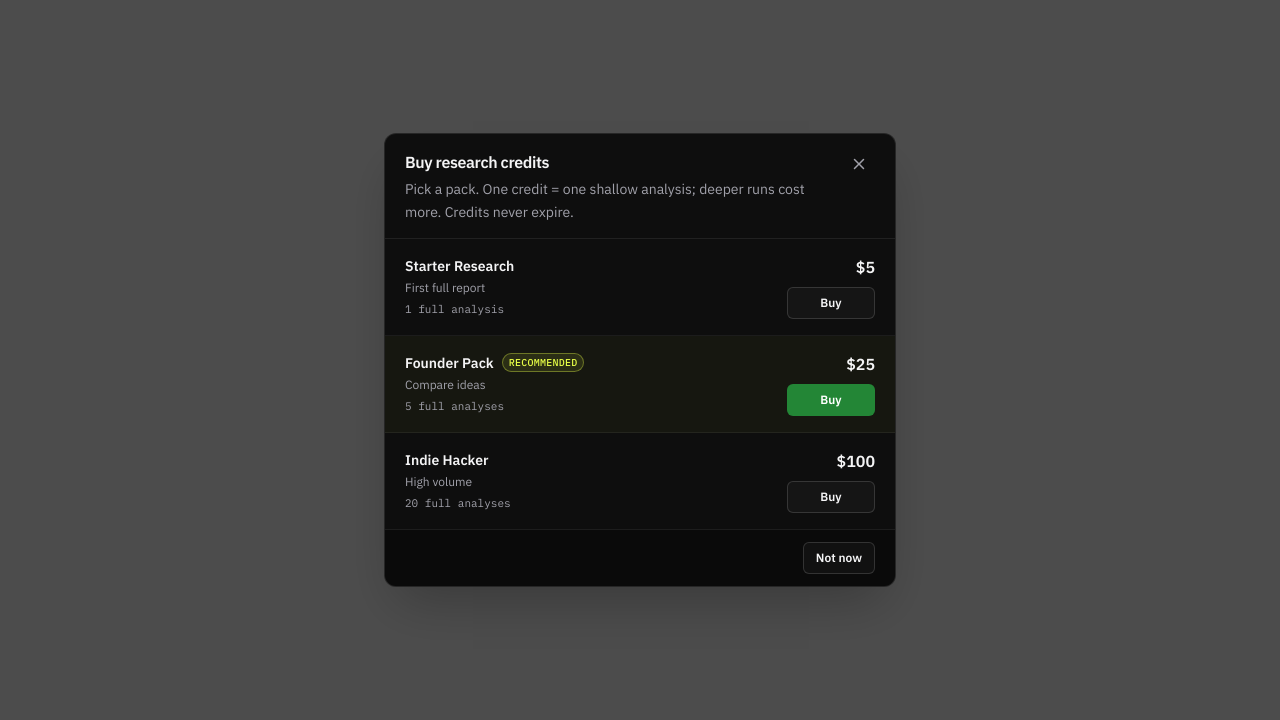
Scenario: PricingModal pack buttons › shows checkout error without crashing
The width and height of the screenshot is (1280, 720).
Expected: the list item "Indie Hacker" is shown, [405,451,488,469]
Click the button "Buy" below "100": (831, 497) [787,481,875,513]
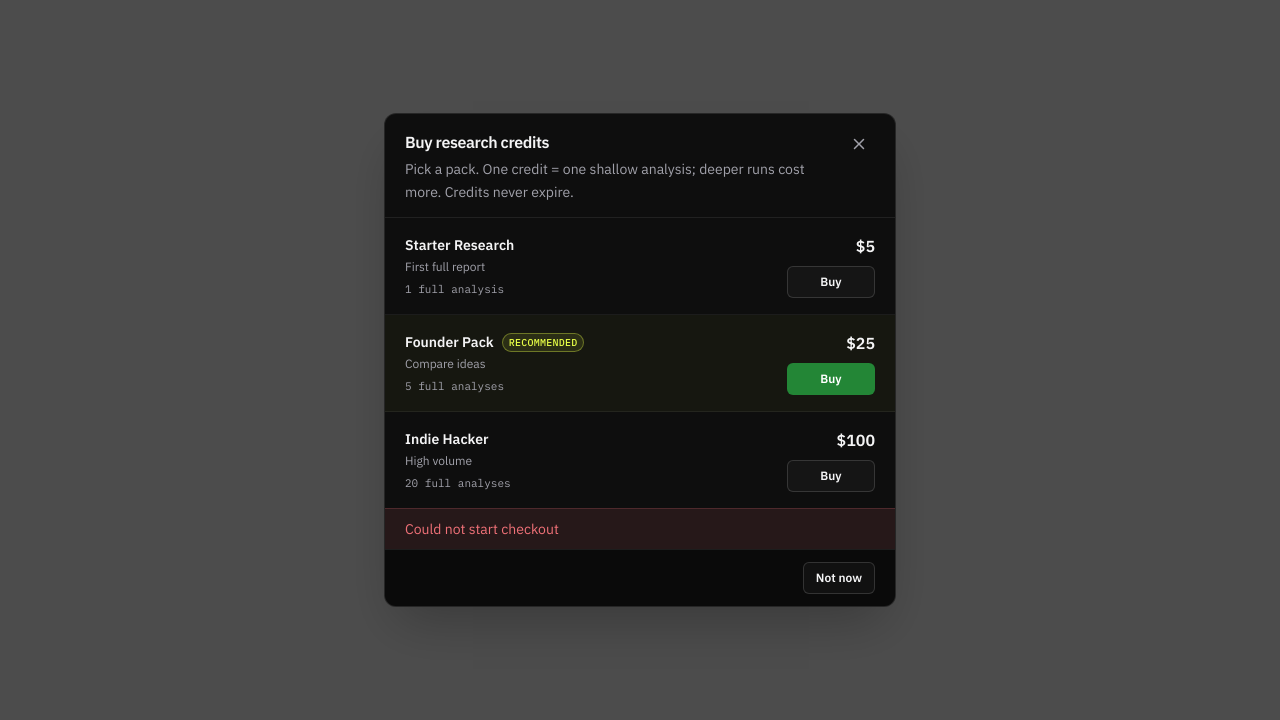
Expected: the text "Could not start checkout" is shown, [385,508,895,549]
